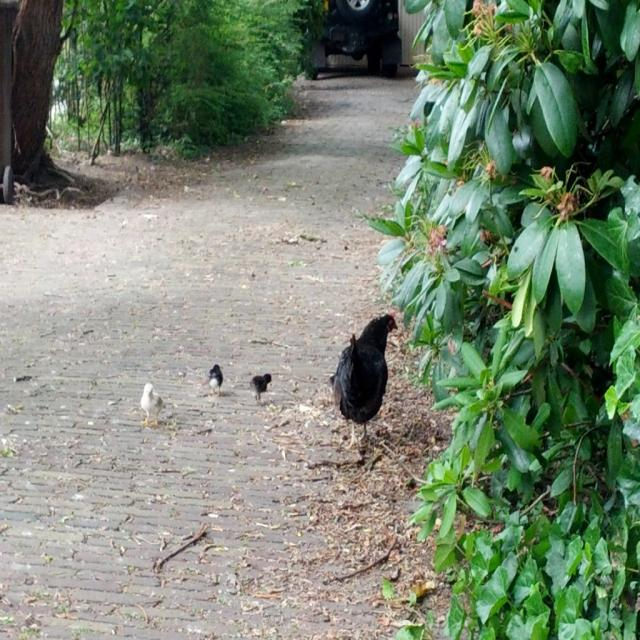Chicken: (328, 315, 398, 444)
